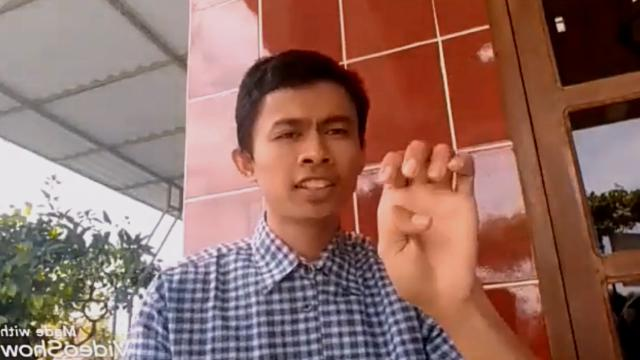E: (374, 138, 484, 308)
